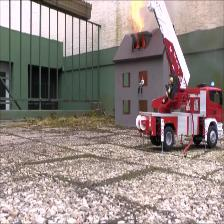fire: (127, 0, 145, 41)
